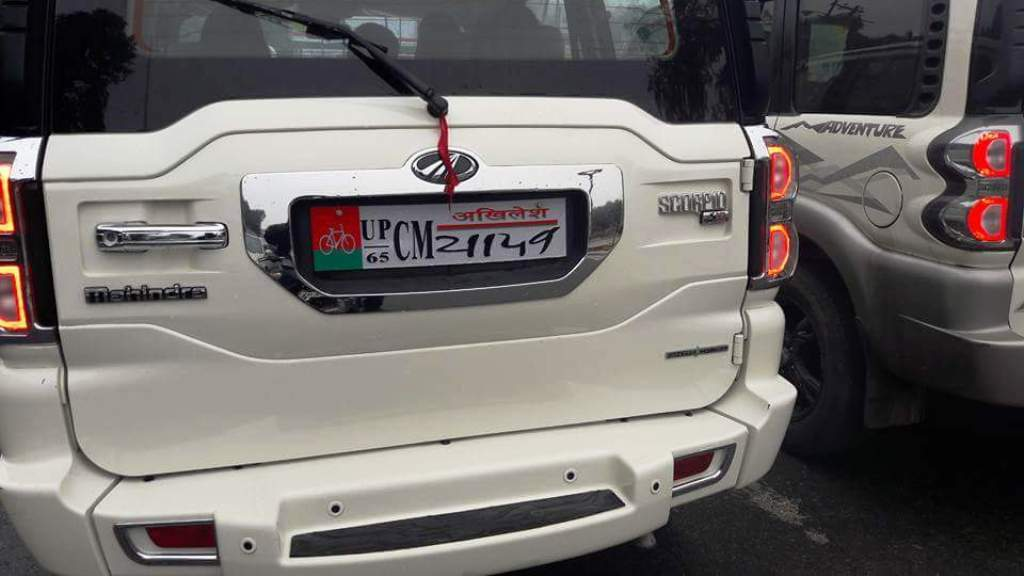number_plate: (309, 193, 580, 272)
